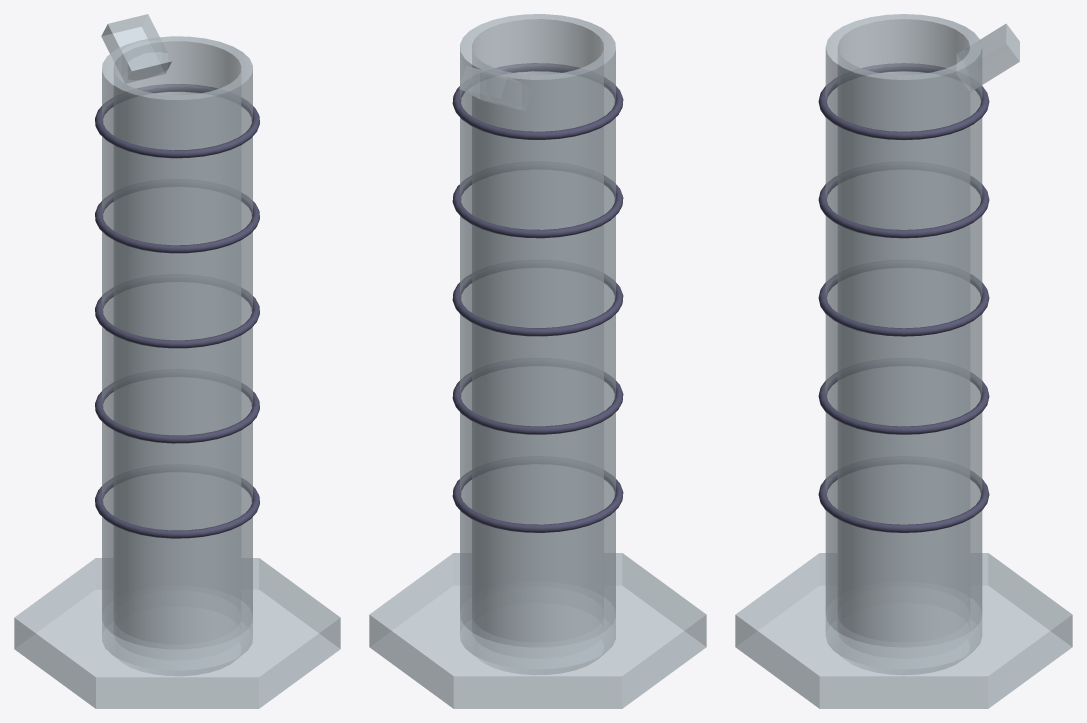
The model's file is graduated_cylinder.glb.
The picture shows the model from 3 angles, left to right: view 1: azimuth 30°, elevation 25°; view 2: azimuth 150°, elevation 25°; view 3: azimuth 270°, elevation 25°; orthographic projection. The views are drawn at different scales.
Visible parts, largest first — view 1: graduated_cylinder; view 2: graduated_cylinder; view 3: graduated_cylinder.
Part boxes in pixels (left/top/right/bottom): graduated_cylinder: left=14, top=14, right=340, bottom=708; graduated_cylinder: left=369, top=14, right=706, bottom=708; graduated_cylinder: left=735, top=14, right=1072, bottom=708.
Bounding box in the file's own units: 0.485 × 1.12 × 0.56.
